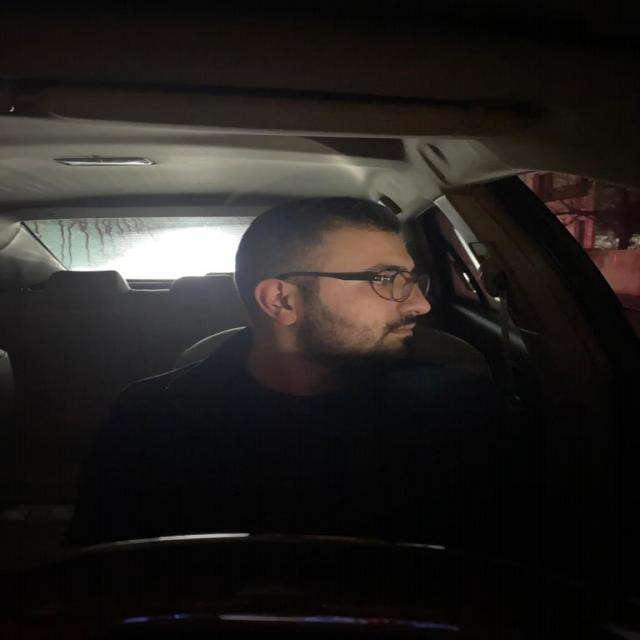LeftRight: (235, 192, 437, 403)
